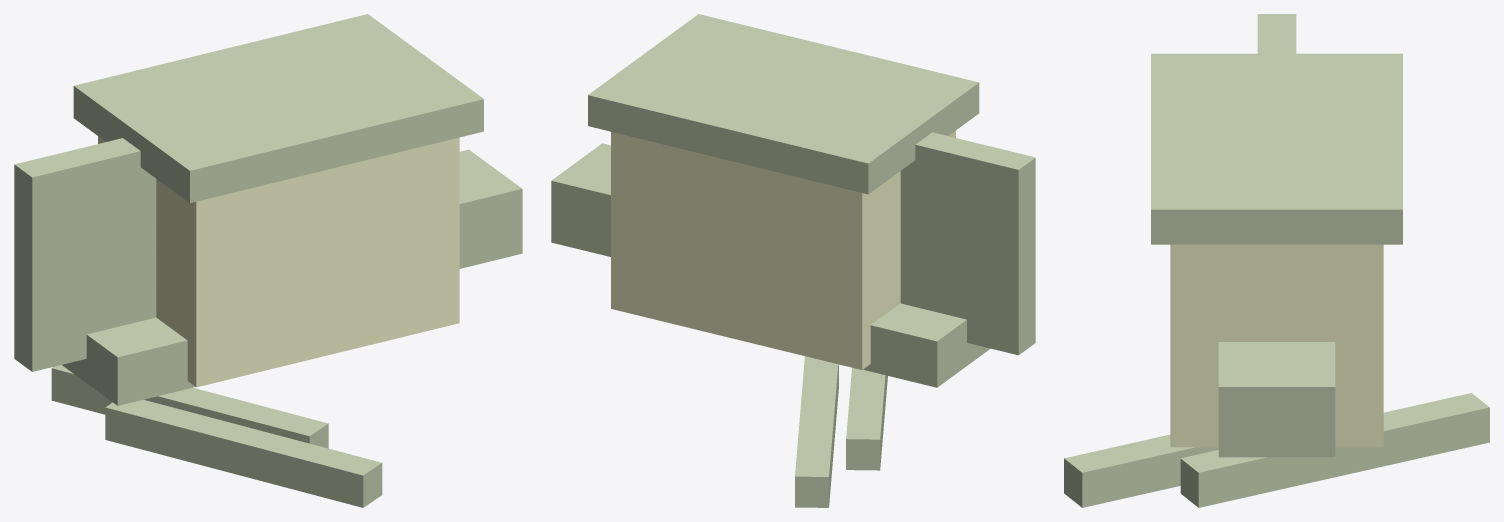
File: furniture_signal_cantilever_arm_junction_box.glb
3 views of the same model, side by side, from view 1: azimuth 30°, elevation 25°; view 2: azimuth 150°, elevation 25°; view 3: azimuth 270°, elevation 25° (orthographic). The views are drawn at different scales.
Parts seen in each view (by area): view 1: junction_box, lid_cap, mount_plate, conduit_drop_left, side_bracket, service_stub, conduit_drop_right; view 2: junction_box, lid_cap, mount_plate, side_bracket, service_stub, conduit_drop_right, conduit_drop_left; view 3: lid_cap, junction_box, service_stub, conduit_drop_right, conduit_drop_left, mount_plate.
Boxes of the visible parts, <box> form: junction_box: <box>98,136,459,387</box>; lid_cap: <box>73,14,483,202</box>; mount_plate: <box>14,138,156,371</box>; conduit_drop_left: <box>105,399,382,507</box>; side_bracket: <box>62,317,195,405</box>; service_stub: <box>459,149,522,268</box>; conduit_drop_right: <box>51,365,328,448</box>; junction_box: <box>611,130,955,369</box>; lid_cap: <box>588,14,979,194</box>; mount_plate: <box>900,132,1035,355</box>; side_bracket: <box>863,303,990,387</box>; service_stub: <box>551,143,610,256</box>; conduit_drop_right: <box>795,356,838,507</box>; conduit_drop_left: <box>846,367,887,470</box>; lid_cap: <box>1151,53,1402,244</box>; junction_box: <box>1170,244,1383,447</box>; service_stub: <box>1218,342,1335,457</box>; conduit_drop_right: <box>1180,393,1489,507</box>; conduit_drop_left: <box>1064,434,1218,507</box>; mount_plate: <box>1257,14,1296,53</box>.
Size of the model in its own units: 0.61 by 0.42 by 0.439.
